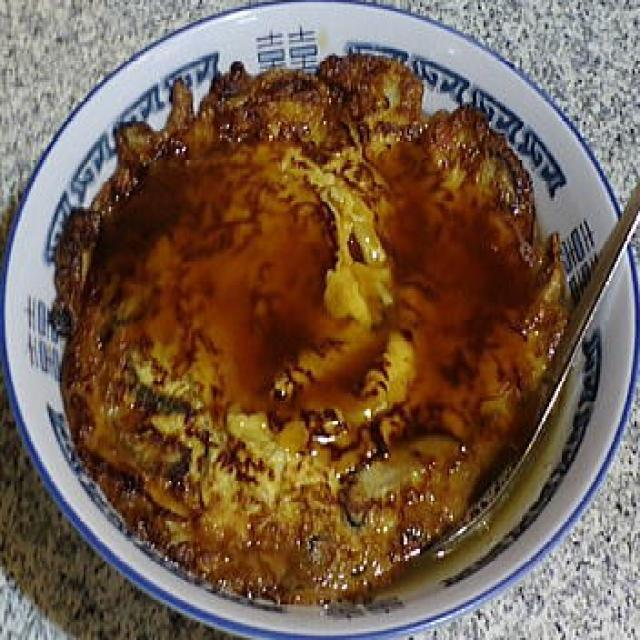面条主食: (25, 69, 600, 609)
